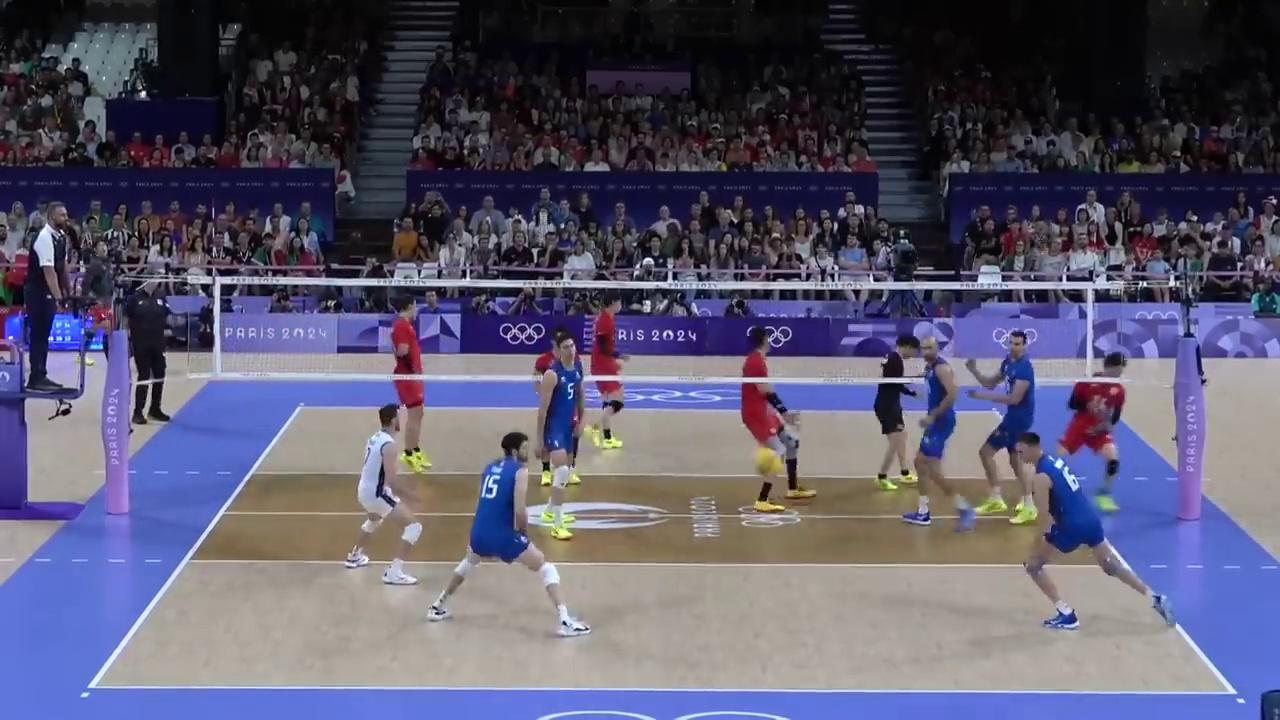ball: (758, 448, 782, 479)
